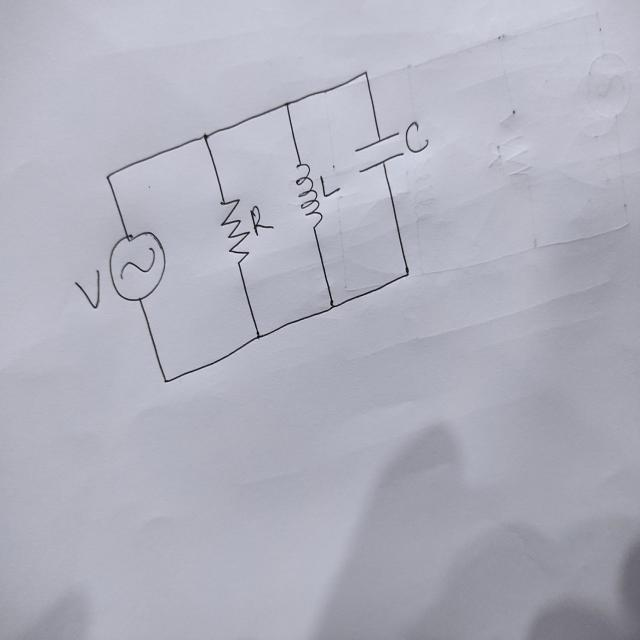capacitor: (353, 130, 405, 174)
inductor: (294, 162, 324, 230)
junction: (248, 323, 268, 348), (399, 262, 413, 282), (324, 298, 338, 315), (200, 130, 210, 143), (160, 375, 171, 385), (282, 100, 292, 108), (362, 67, 370, 77), (104, 172, 111, 182)
resistor: (219, 196, 250, 265)
source: (108, 230, 166, 303)
text: (73, 266, 102, 310), (404, 120, 430, 155), (249, 203, 274, 237), (319, 172, 341, 198)
